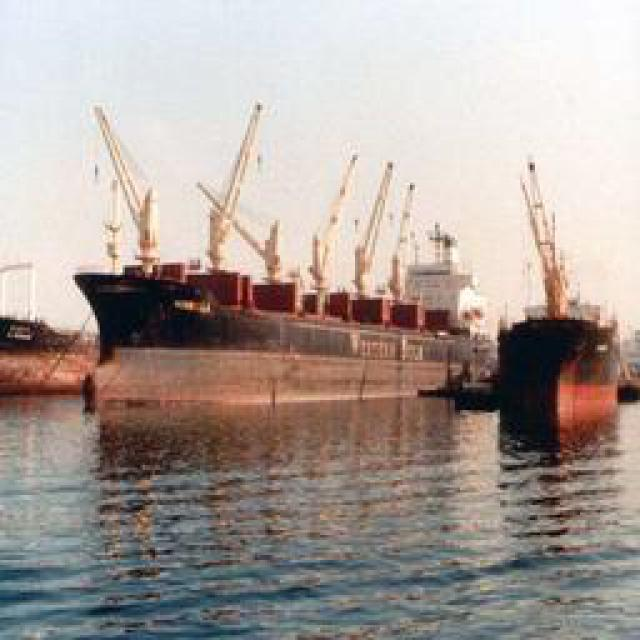Ship: (53, 74, 504, 415), (479, 146, 640, 459)
